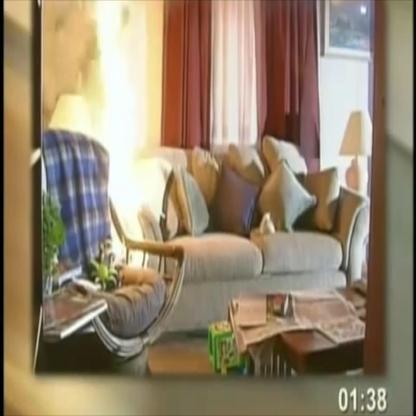fire: (94, 22, 154, 264)
